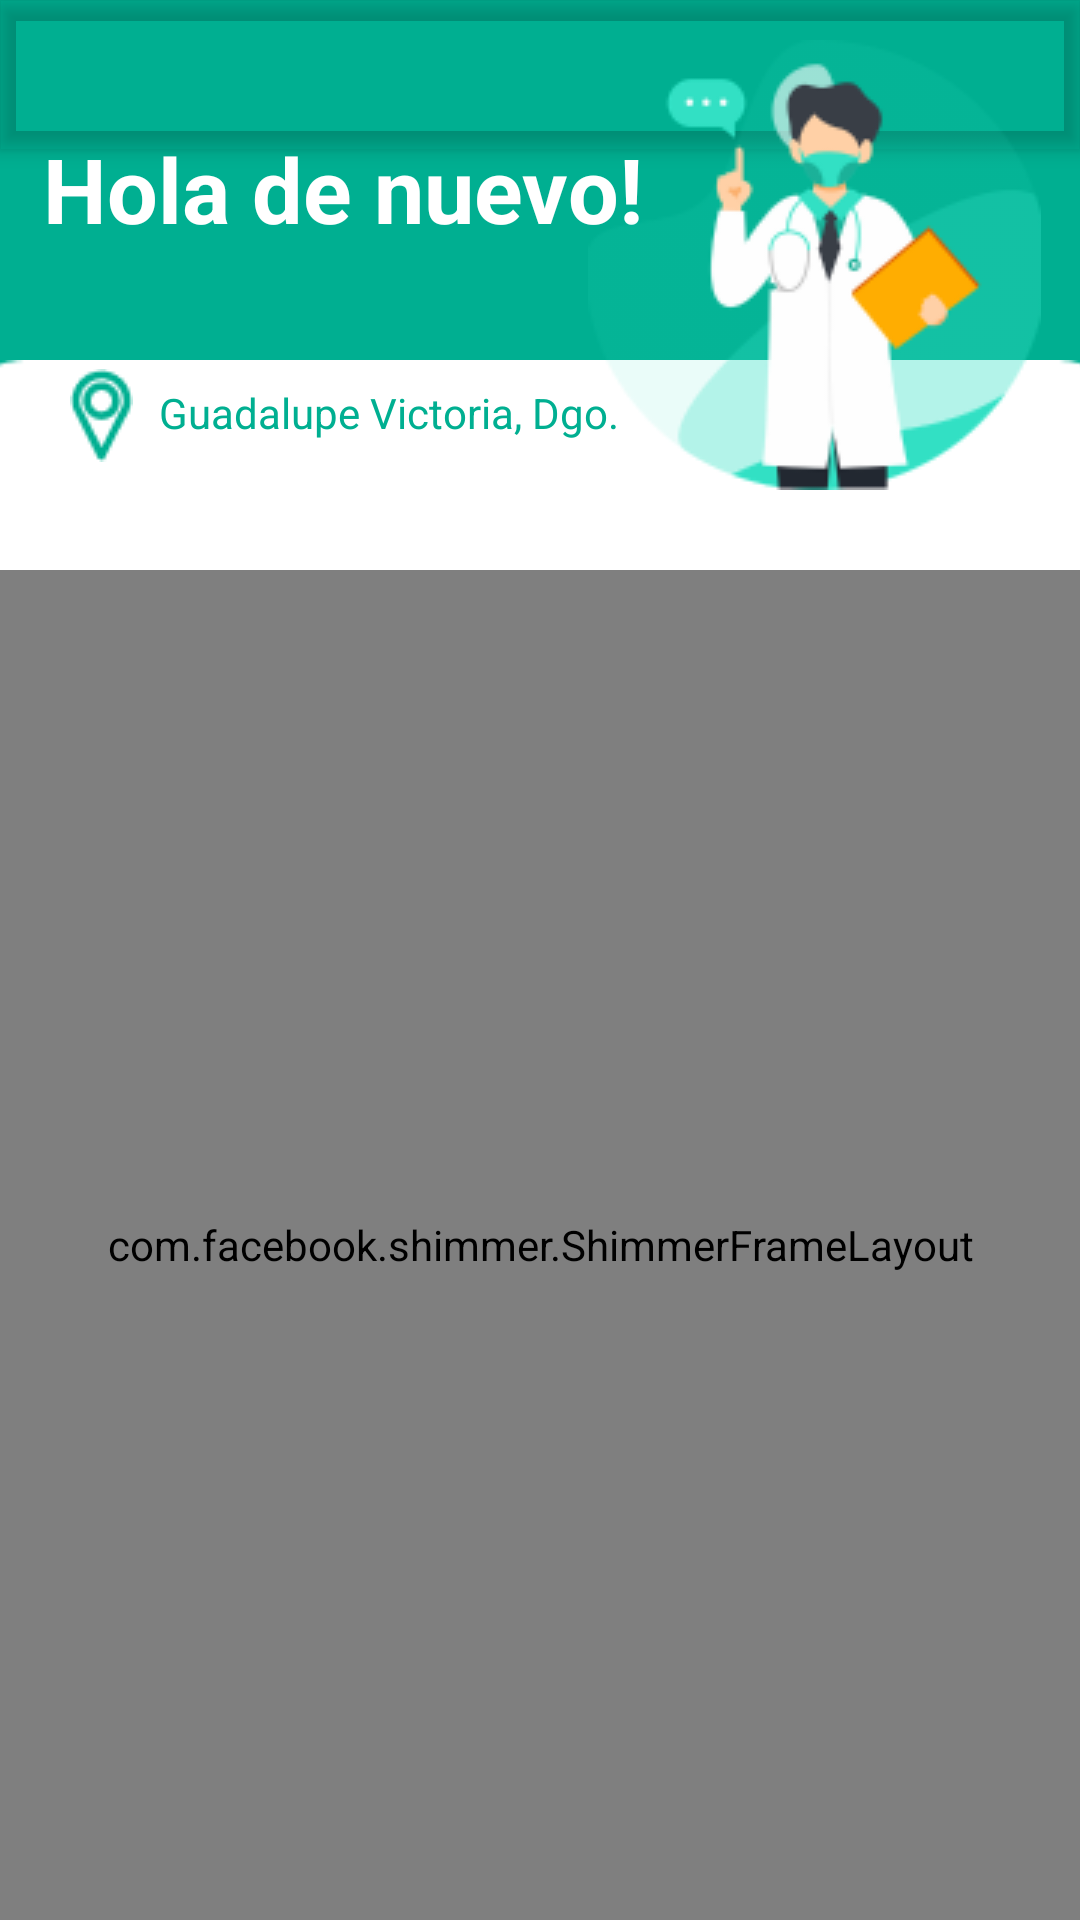

Named icons in this screenshot (1080px x 1920px) and their bounding boxes, (left=x1, top=y1, right=x2, bottom=y2):
emoji location: (left=70, top=369, right=133, bottom=462)
